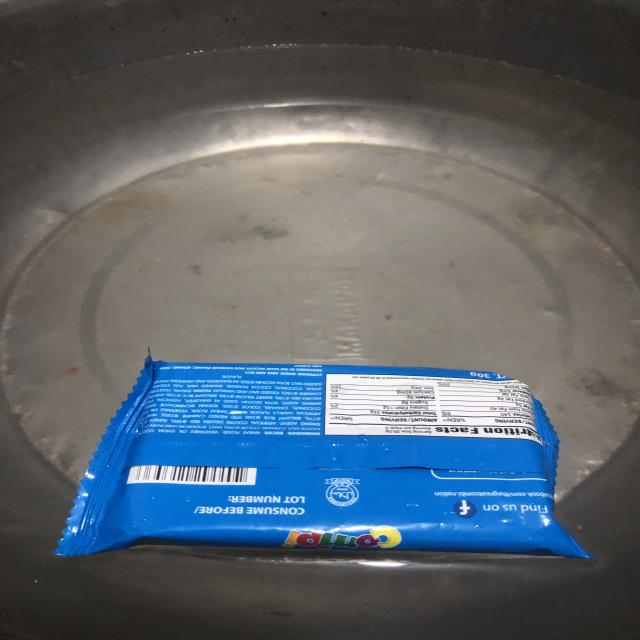Plastic Wrapper: (51, 350, 602, 570)
